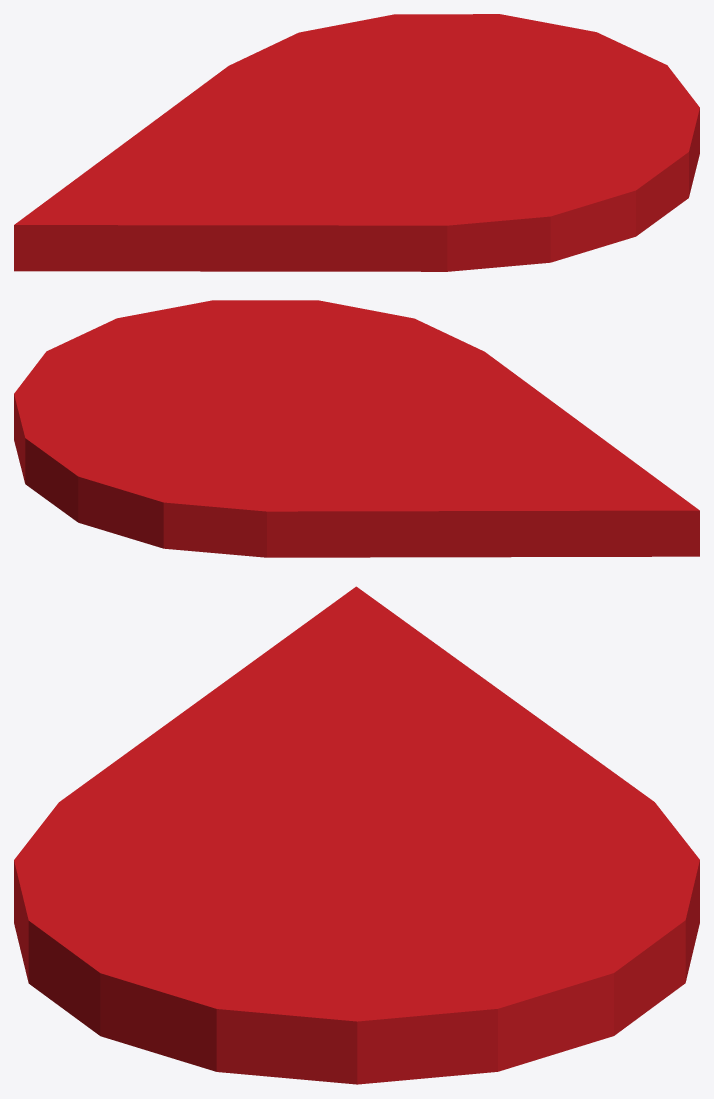
3 views of the same model, one above another, from view 1: azimuth 30°, elevation 25°; view 2: azimuth 150°, elevation 25°; view 3: azimuth 270°, elevation 25° (orthographic). The views are drawn at different scales.
Visible parts, largest first — view 1: node_id4; view 2: node_id4; view 3: node_id4.
Part boxes in pixels (<box>): node_id4: <box>14,14,699,271</box>; node_id4: <box>14,300,699,557</box>; node_id4: <box>14,586,699,1084</box>.
Bounding box in the file's own units: 0.512 × 0.0346 × 0.3411.
Materials: 1 (1 with a texture image).
